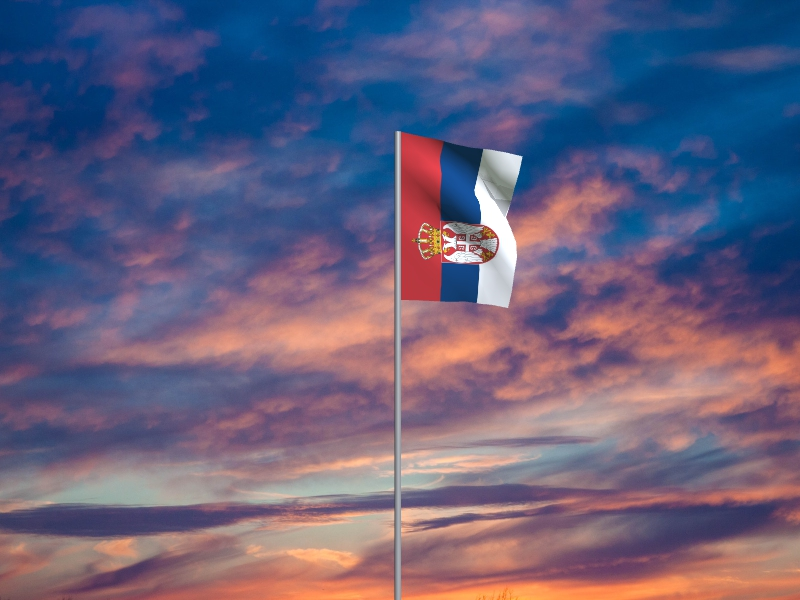rs: (400, 133, 523, 310)
